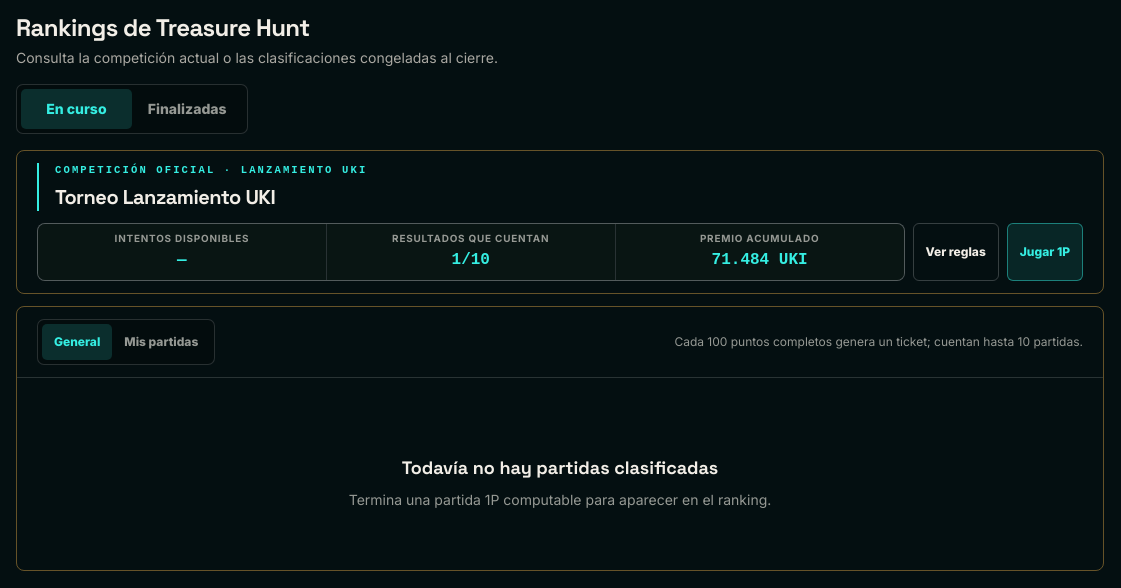
Test case: histórico de Rankings de Treasure Hunt › muestra el estado vacío del histórico
Click the button "Finalizadas" at (187, 109), box [132, 89, 243, 129]
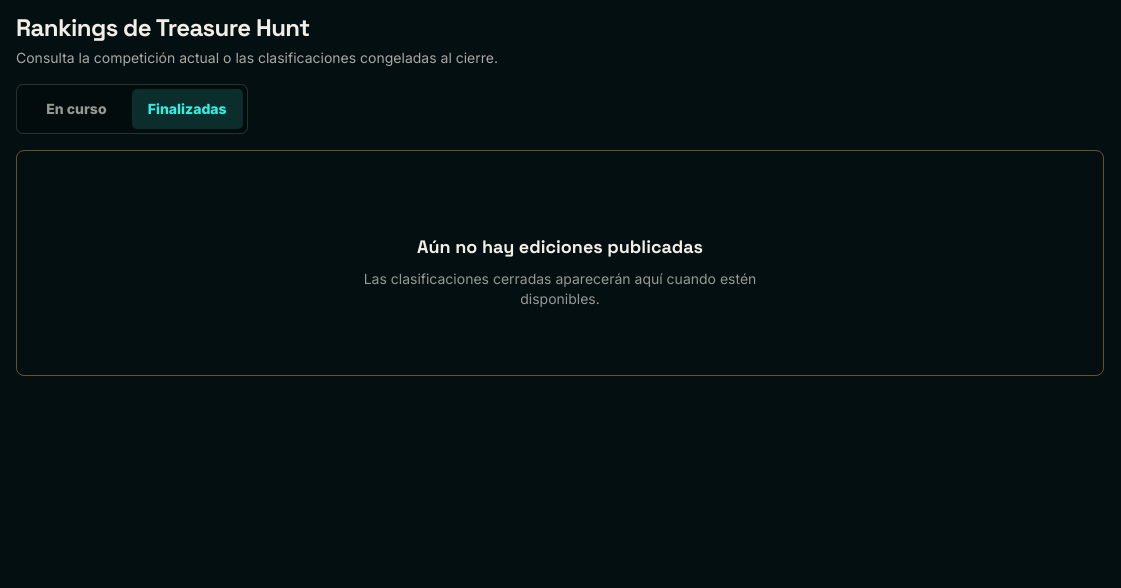
Check: the heading "Aún no hay ediciones publicadas" is shown, box [417, 233, 703, 261]
